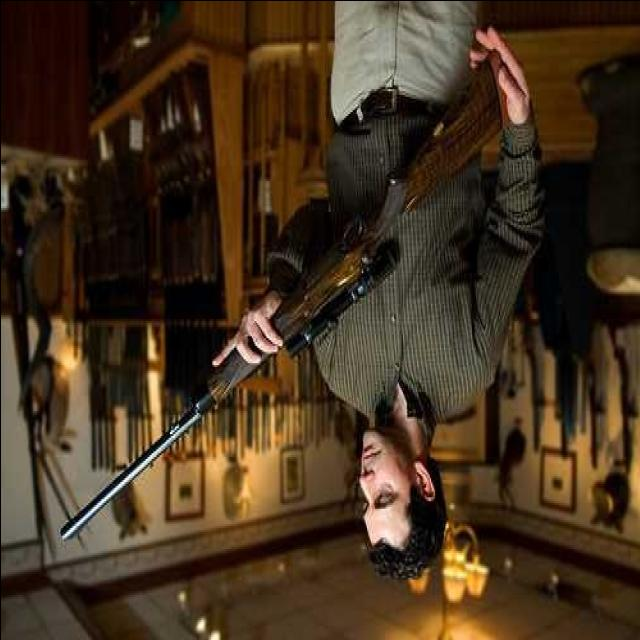heavyweapon: (55, 53, 511, 573)
